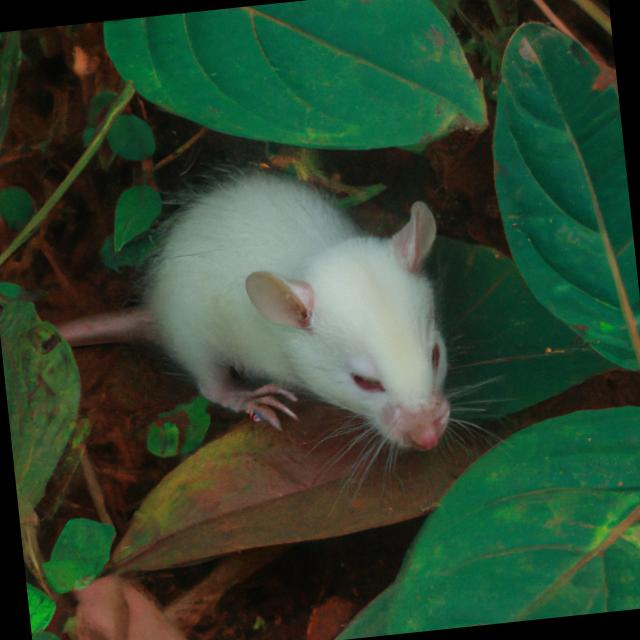rodents: (86, 123, 482, 496)
